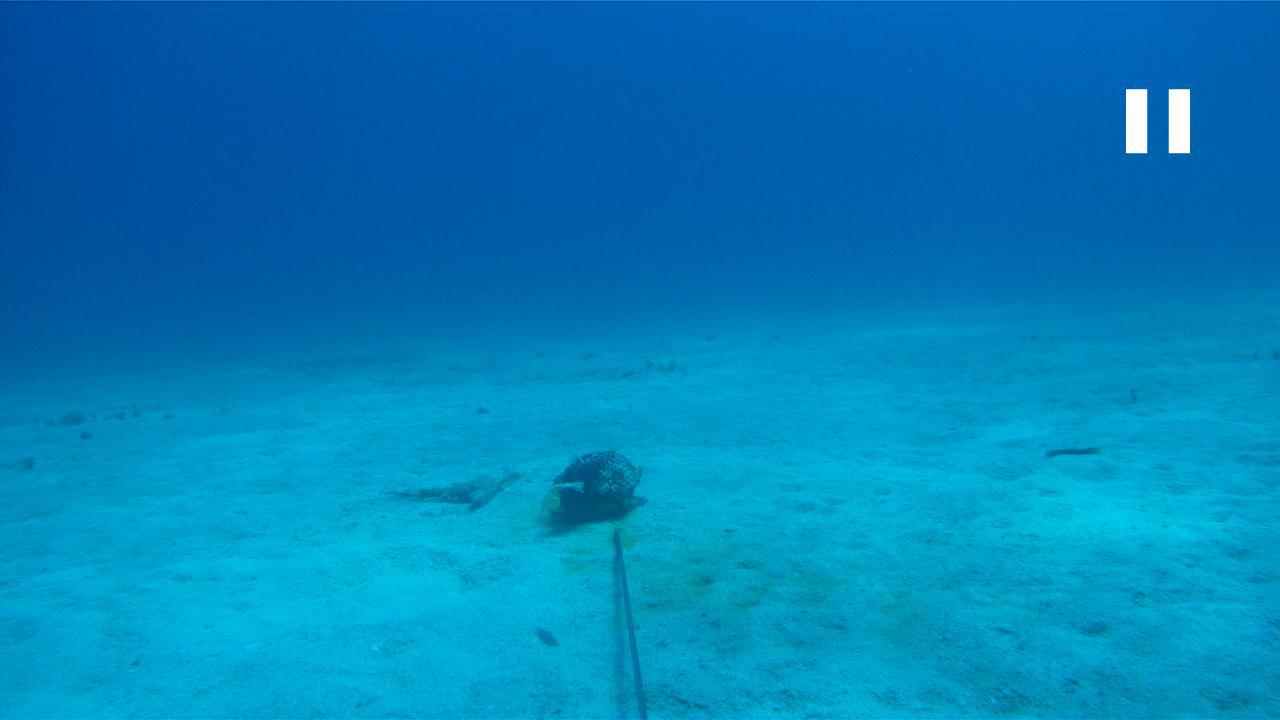bothus: (1040, 434, 1106, 458)
